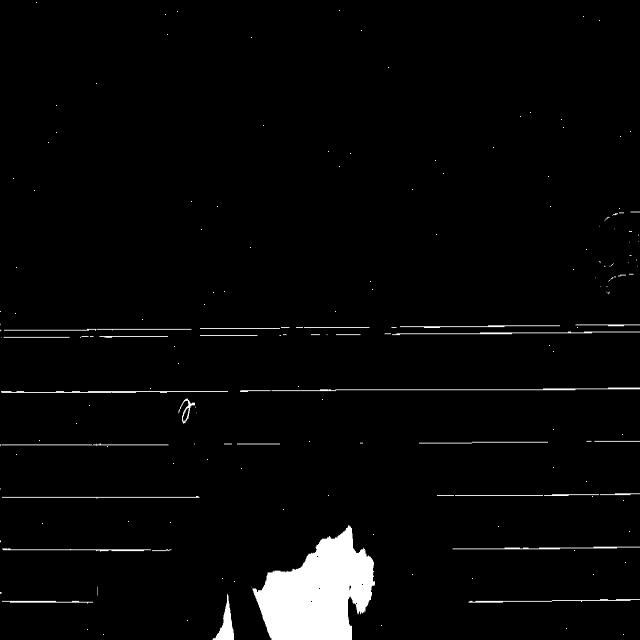hand: (254, 526, 374, 639), (214, 598, 234, 639)
noise: (0, 325, 372, 338), (0, 386, 640, 393), (383, 323, 640, 336), (0, 588, 99, 605), (468, 596, 640, 604), (0, 441, 200, 447), (0, 546, 171, 553), (451, 545, 640, 551), (436, 491, 640, 496), (0, 493, 200, 498), (418, 440, 549, 444), (220, 442, 280, 447), (585, 439, 640, 444)
not-noise: (178, 398, 195, 424)
page-marker: (598, 212, 640, 293)
